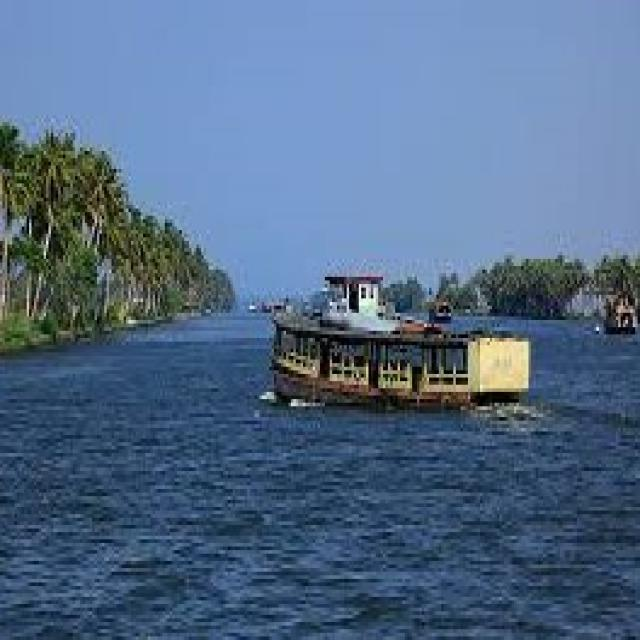houseboat: (255, 253, 527, 398)
